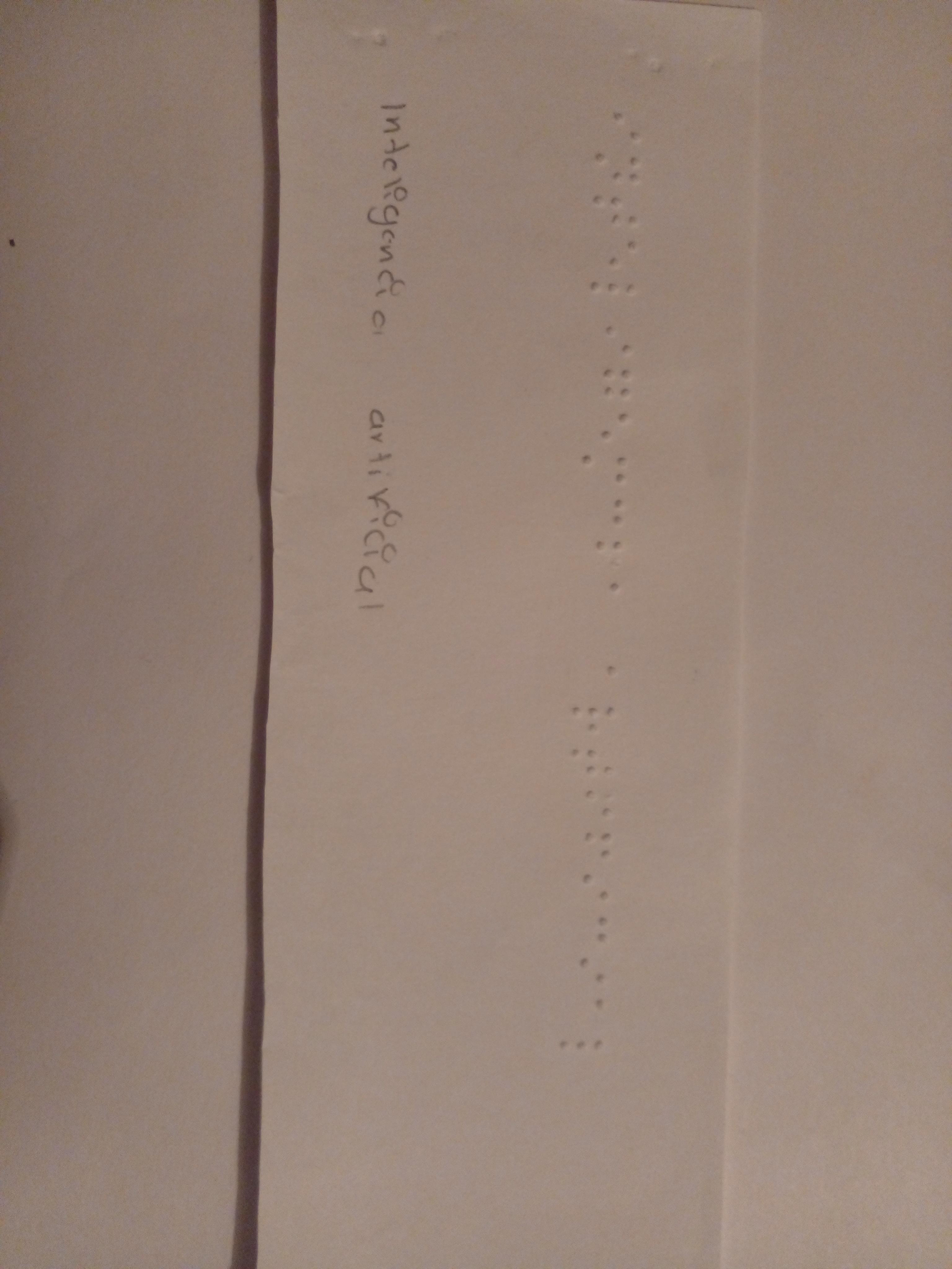a: (570, 648, 649, 689), (589, 562, 654, 604), (573, 988, 617, 1027)
b: (584, 531, 649, 565)
c: (567, 903, 618, 953), (589, 493, 637, 531)
e: (586, 228, 640, 268), (587, 406, 638, 445)
f: (573, 826, 624, 866)
g: (589, 356, 657, 404)
i: (584, 105, 660, 147), (592, 313, 654, 359), (569, 866, 620, 906), (569, 954, 612, 996), (578, 781, 618, 823)
l: (587, 270, 645, 311), (553, 1029, 615, 1063)
m: (578, 446, 635, 490)
n: (586, 143, 654, 189)
r: (569, 692, 634, 740)
t: (589, 189, 646, 229), (562, 745, 623, 778)
